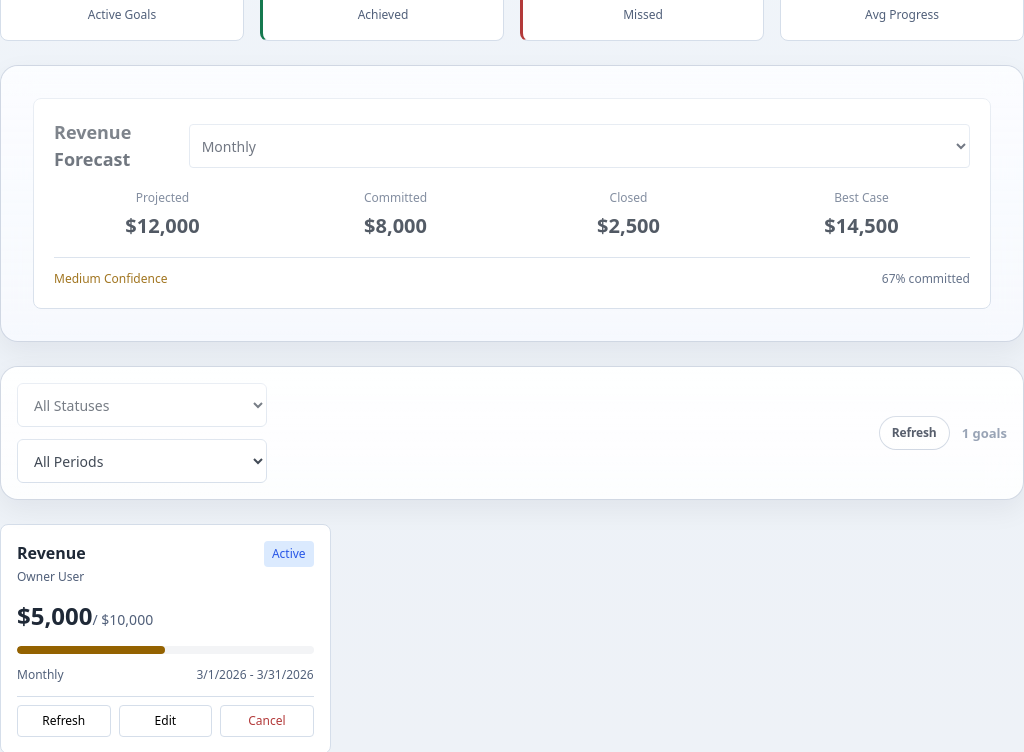
GoalsPage › renders the goals workspace and allows filters to be changed
(page scrolled)
Check: the element with test id "forecast-widget" is shown, box [33,98,991,309]
Step 1. Select "Active" in the 2nd dropdown showing "All Statuses" → [142, 405], box [17,383,267,427]
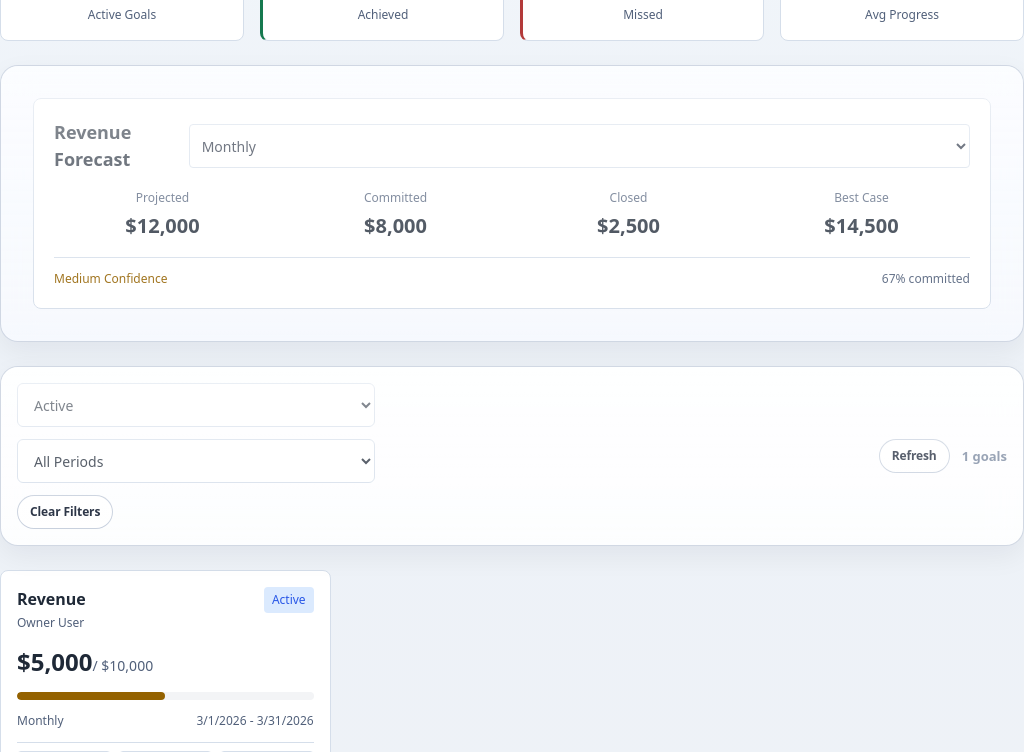
Check: the button "Clear Filters" is shown, box [17,495,113,529]
